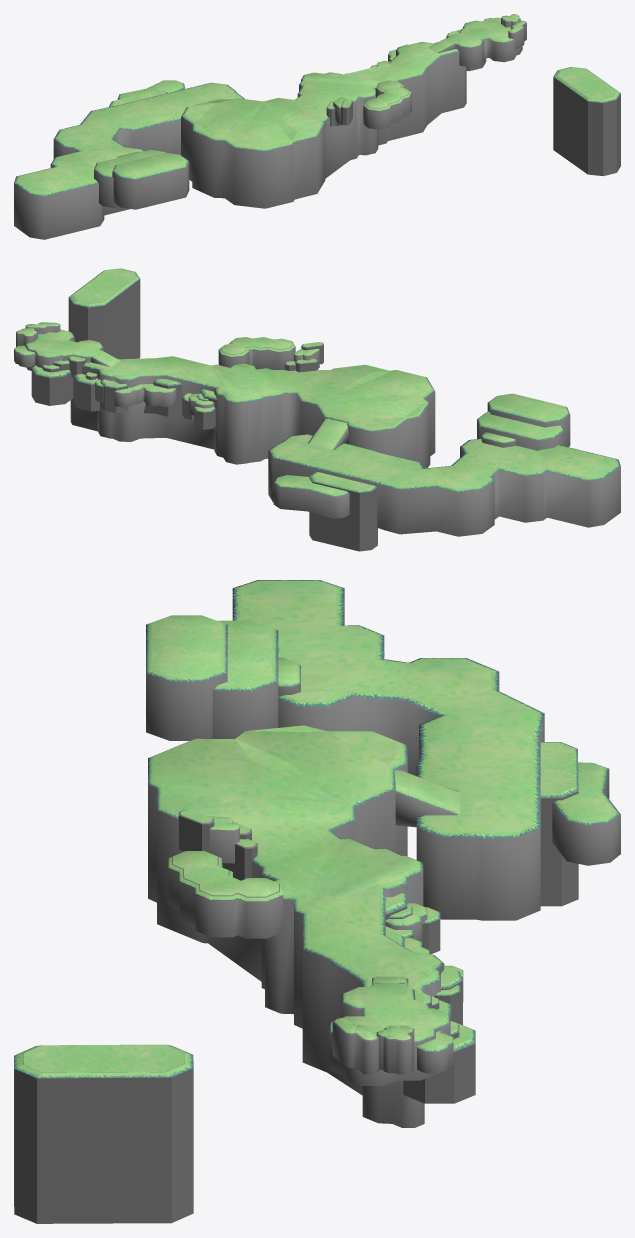
File: river_test.fbx
3 views of the same model, one above another, from view 1: azimuth 30°, elevation 25°; view 2: azimuth 150°, elevation 25°; view 3: azimuth 270°, elevation 25° (orthographic). The views are drawn at different scales.
Parts seen in each view (by area): view 1: River_side, River_Upperedge_test, River_Upper_colider; view 2: River_side, River_Upperedge_test, River_Upper_colider; view 3: River_Upperedge_test, River_side, River_Upper_colider.
Part boxes in pixels (x1,y1,x2,y2): River_side: [14, 15, 620, 239]; River_Upperedge_test: [14, 14, 620, 196]; River_Upper_colider: [185, 41, 440, 139]; River_side: [14, 274, 620, 551]; River_Upperedge_test: [14, 268, 619, 496]; River_Upper_colider: [89, 359, 425, 428]; River_Upperedge_test: [14, 580, 619, 1078]; River_side: [14, 580, 620, 1223]; River_Upper_colider: [163, 725, 429, 991].
Bounding box in the file's own units: 35829 × 5782 × 17657.
Materials: 2 (1 with a texture image).
